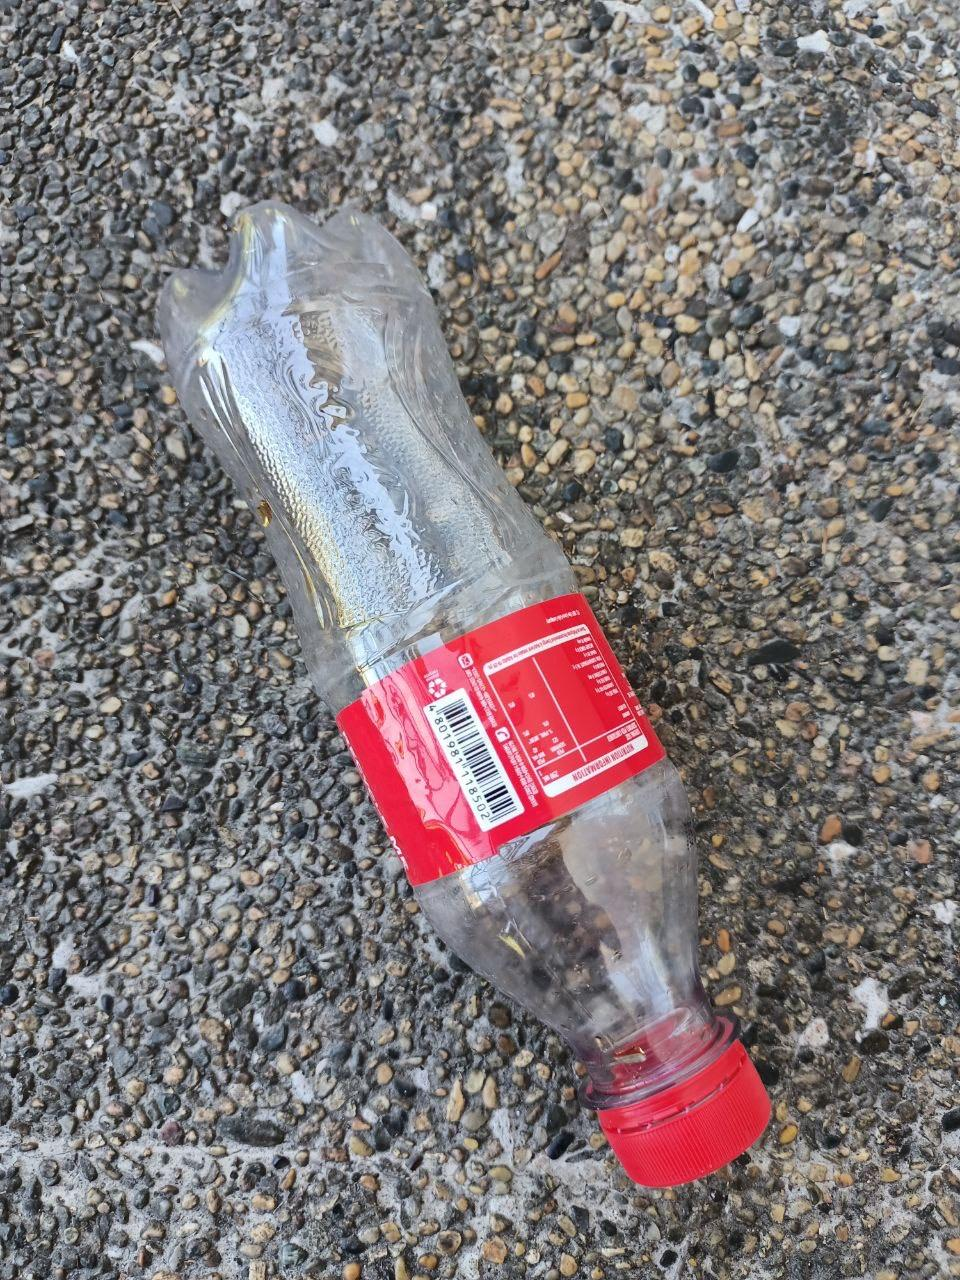plastic: (114, 139, 821, 1255)
